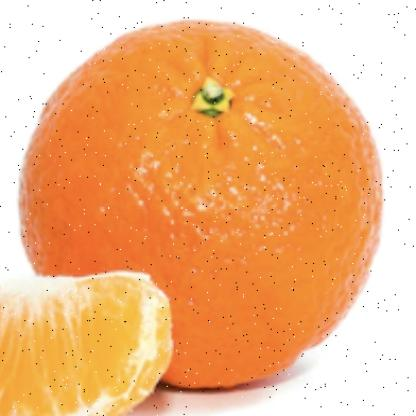fresh: (21, 18, 385, 394)
